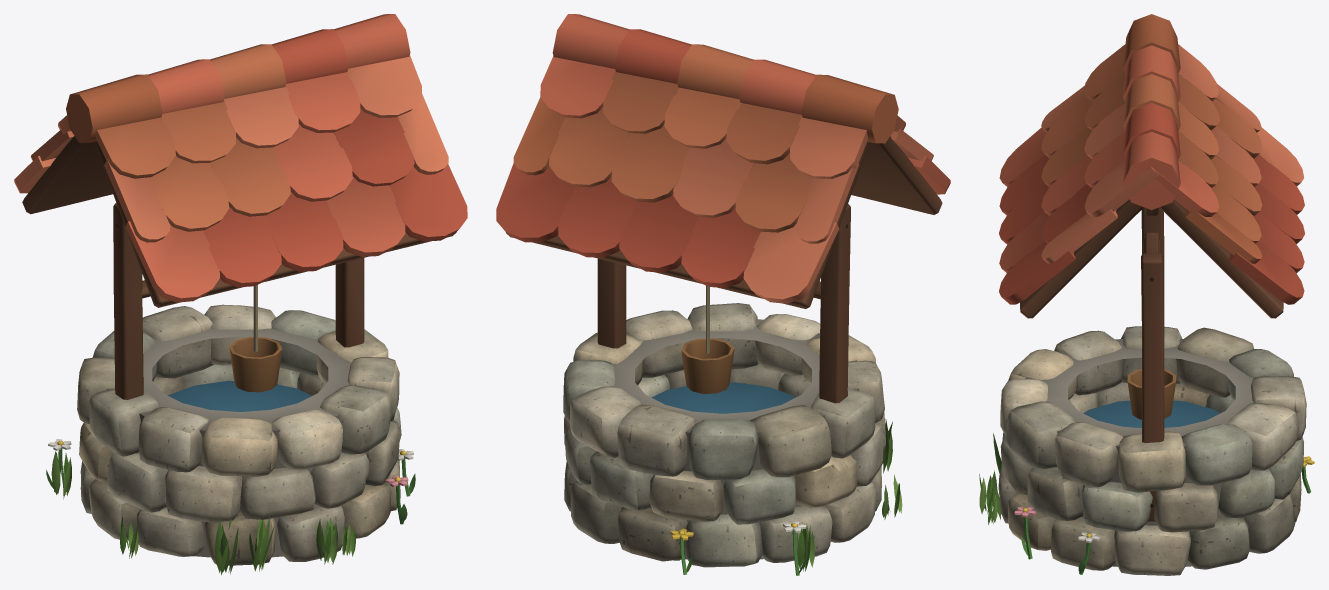
Rendered from well.gltf.
3 renders of one model, left to right at view 1: azimuth 30°, elevation 25°; view 2: azimuth 150°, elevation 25°; view 3: azimuth 270°, elevation 25°, orthographic. The views are drawn at different scales.
Visible parts, largest first — view 1: Well, Stones; view 2: Well, Stones; view 3: Well, Stones.
Boxes of the visible parts, box(x1,y1,x2,y2) form: Well: box(14, 14, 467, 575); Stones: box(77, 304, 401, 565); Well: box(496, 14, 950, 575); Stones: box(563, 303, 885, 567); Well: box(979, 14, 1314, 574); Stones: box(998, 326, 1306, 575).
Bounding box in the file's own units: 2.06 × 2.8 × 1.97.
21 materials, 1 textured.
